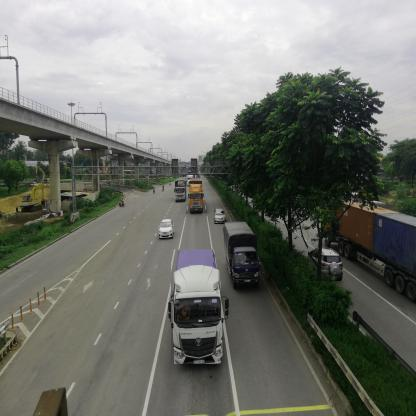car: (309, 240, 344, 282), (160, 220, 175, 240), (215, 210, 226, 225)
container: (329, 199, 416, 291), (191, 182, 205, 213)
motorbike: (119, 199, 125, 209), (163, 186, 165, 192)
truck: (172, 250, 222, 365), (225, 227, 261, 293), (176, 180, 187, 204)
